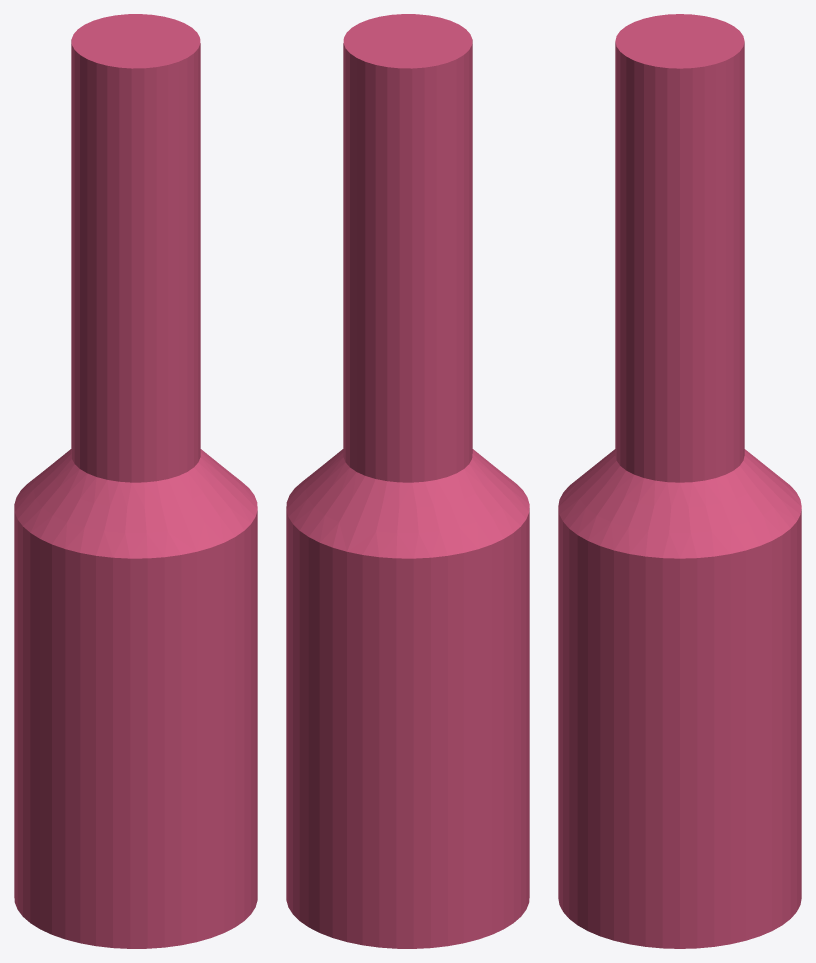
The picture shows the model from 3 angles, left to right: view 1: azimuth 30°, elevation 25°; view 2: azimuth 150°, elevation 25°; view 3: azimuth 270°, elevation 25°; orthographic projection.
Visible parts, largest first — view 1: 10627211; view 2: 10627211; view 3: 10627211.
Part boxes in pixels (bbox=[...]): 10627211: bbox=[14, 14, 257, 948]; 10627211: bbox=[286, 14, 529, 948]; 10627211: bbox=[558, 14, 801, 948].
Size of the model in its own units: 0.2579 by 1 by 0.2579.
